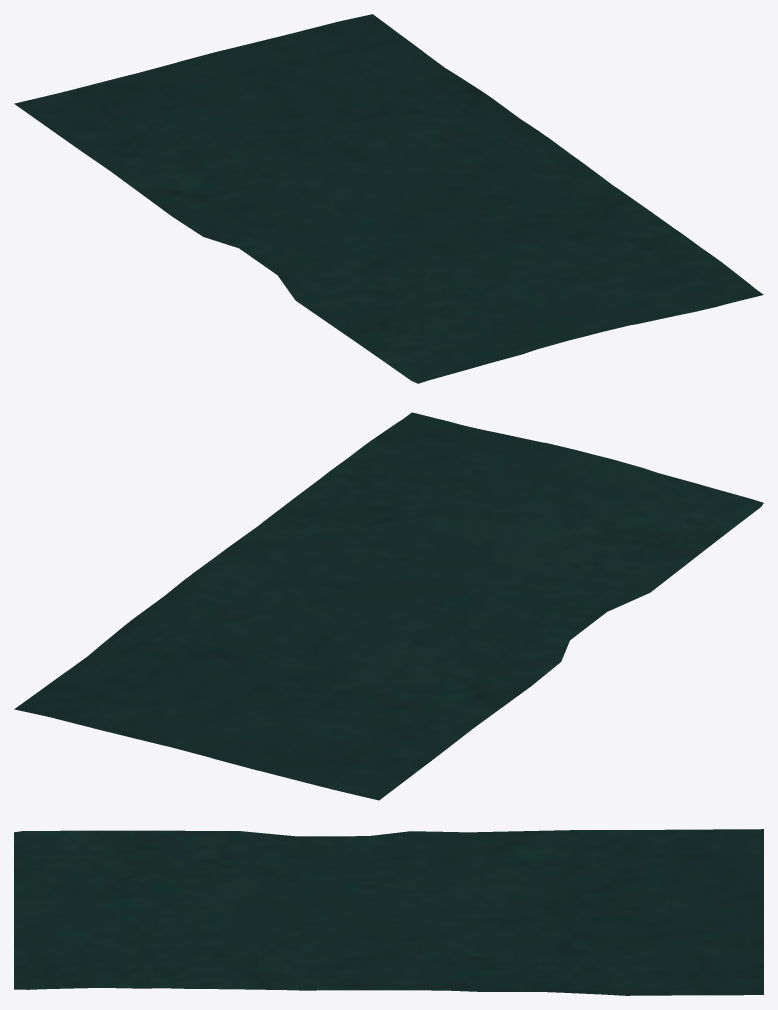
3 views of the same model, one above another, from view 1: azimuth 30°, elevation 25°; view 2: azimuth 150°, elevation 25°; view 3: azimuth 270°, elevation 25° (orthographic). The views are drawn at different scales.
Bounding box in the file's own units: 27.66 × 0.8276 × 52.22.
1 material, 1 textured.
